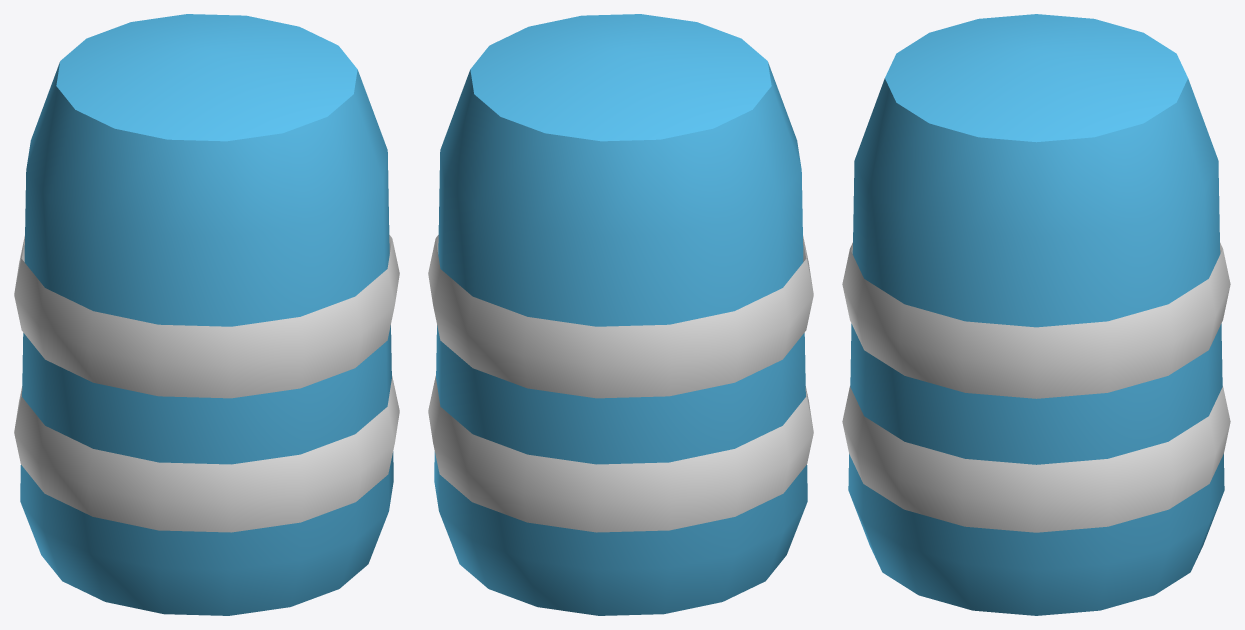
The model's file is bumper.glb.
The picture shows the model from 3 angles, left to right: view 1: azimuth 30°, elevation 25°; view 2: azimuth 150°, elevation 25°; view 3: azimuth 270°, elevation 25°; orthographic projection.
Visible parts, largest first — view 1: bumper; view 2: bumper; view 3: bumper.
Part boxes in pixels (left/top/right/bottom): bumper: left=14, top=14, right=399, bottom=615; bumper: left=428, top=14, right=813, bottom=615; bumper: left=842, top=14, right=1230, bottom=615.
Bounding box in the file's own units: 1.28 × 1.8 × 1.28.
